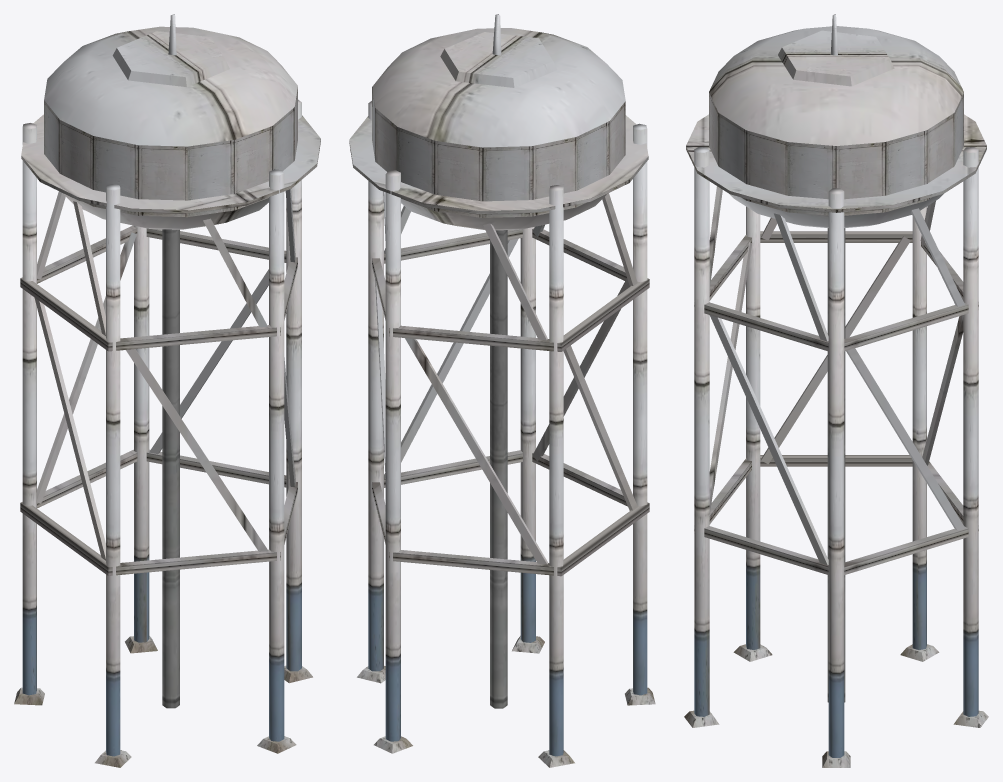
Rendered from ind-watertower.lod0.glb.
3 views of the same model, side by side, from view 1: azimuth 30°, elevation 25°; view 2: azimuth 150°, elevation 25°; view 3: azimuth 270°, elevation 25° (orthographic).
Visible parts, largest first — view 1: Industrial_Watertower_1_Industrial_Trim_FLR_1_0; view 2: Industrial_Watertower_1_Industrial_Trim_FLR_1_0; view 3: Industrial_Watertower_1_Industrial_Trim_FLR_1_0.
Boxes of the visible parts, x1=… form: Industrial_Watertower_1_Industrial_Trim_FLR_1_0: x1=14, y1=14, x2=320, y2=767; Industrial_Watertower_1_Industrial_Trim_FLR_1_0: x1=349, y1=14, x2=655, y2=767; Industrial_Watertower_1_Industrial_Trim_FLR_1_0: x1=684, y1=14, x2=988, y2=767.
Bounding box in the file's own units: 9.79 × 24.26 × 9.75.
Materials: 1 (1 with a texture image).
